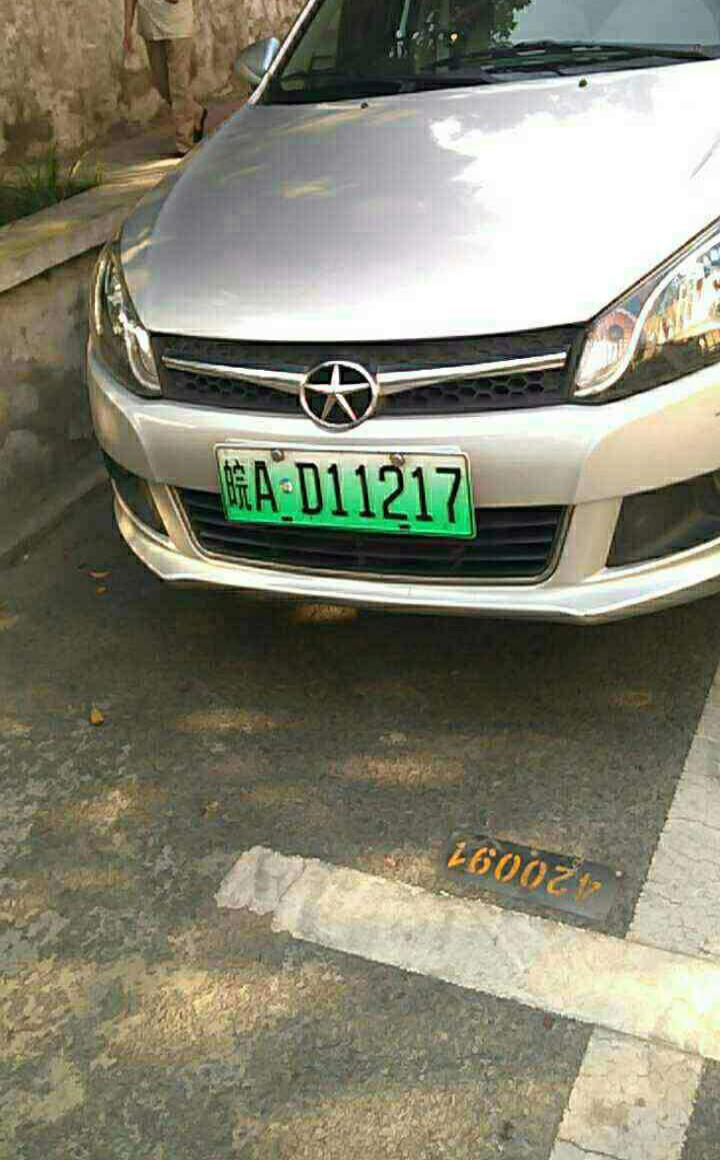car: (206, 436, 485, 548)
